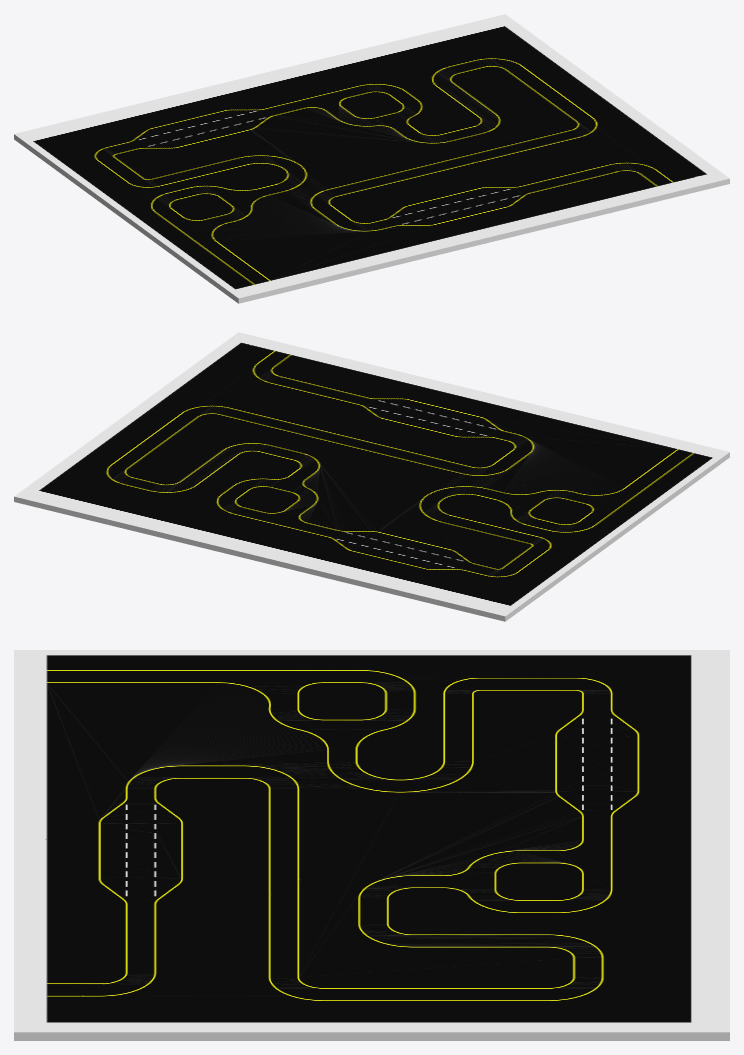
The model's file is arena.dae.
The picture shows the model from 3 angles, top to bottom: view 1: azimuth 30°, elevation 25°; view 2: azimuth 150°, elevation 25°; view 3: azimuth 270°, elevation 25°; orthographic projection. The views are drawn at different scales.
Visible parts, largest first — view 1: Plane.001, Plane; view 2: Plane.001, Plane; view 3: Plane.001, Plane.
Boxes of the visible parts, x1,y1,x2,y2 form: Plane.001: (14, 14, 729, 298); Plane: (14, 134, 729, 303); Plane.001: (14, 332, 729, 616); Plane: (14, 452, 729, 621); Plane.001: (14, 650, 729, 1032); Plane: (14, 1032, 729, 1040).
Bounding box in the file's own units: 9.6 × 7.6 × 0.1.
Materials: 2 (2 with a texture image).
